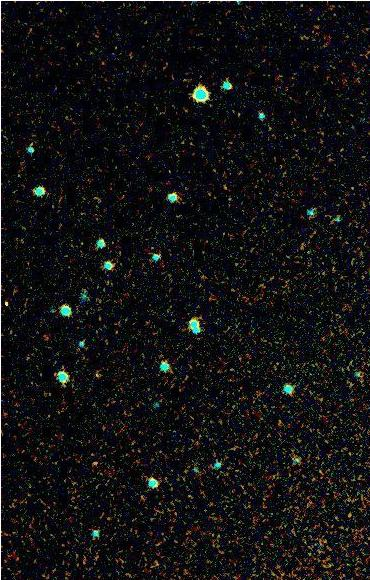star: (81, 448, 111, 478)
